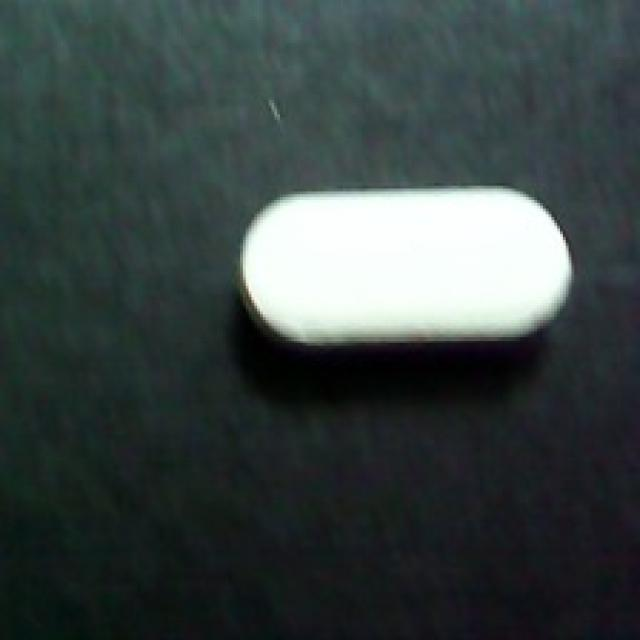no-defect: (231, 171, 574, 374)
